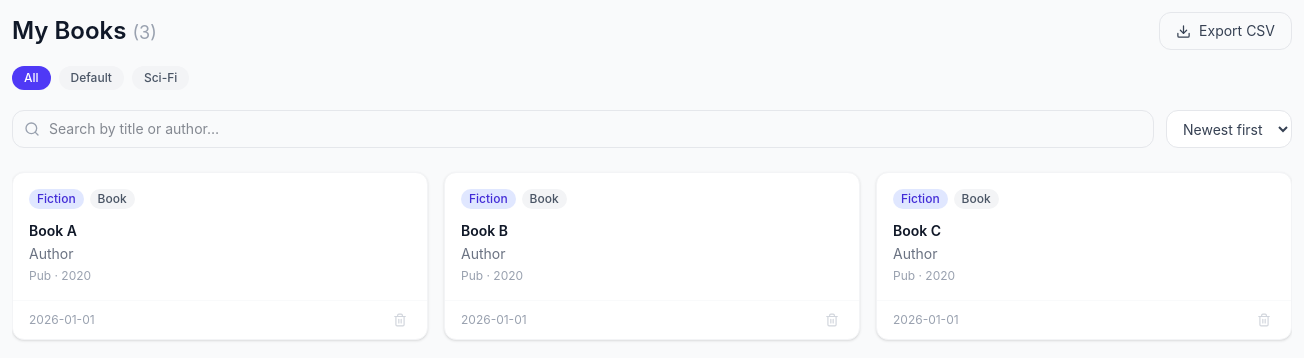
it: HistoryPage session filter chips › clicking "All" after filtering restores full list
Click the button "Sci-Fi" at (161, 78), box 132,66 -> 189,90
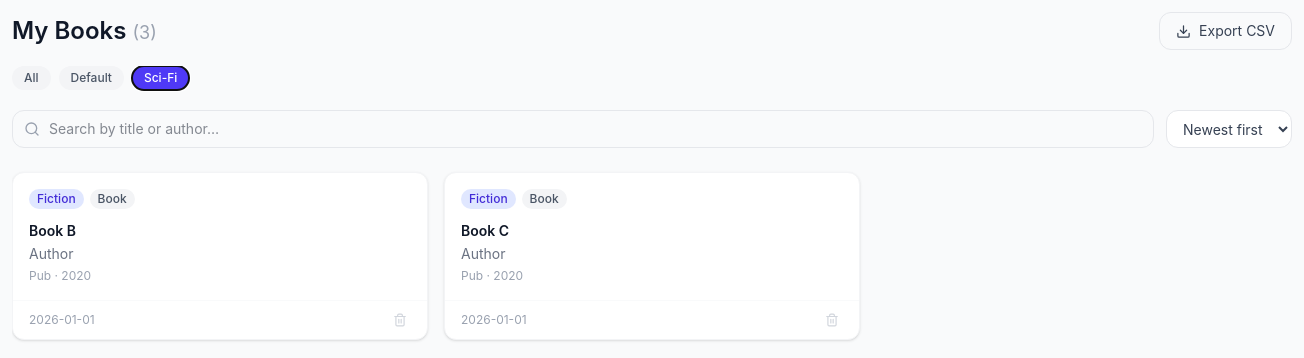
Click the button "All" at (31, 78), box 12,66 -> 51,90
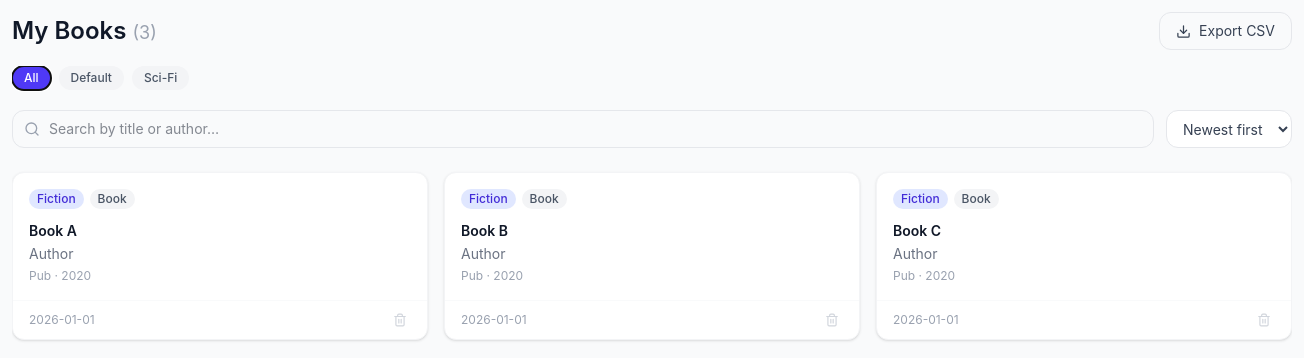
expect the heading "Book B" is shown: met, box 461,222 -> 508,239
expect the heading "Book A" is shown: met, box 29,222 -> 77,239
